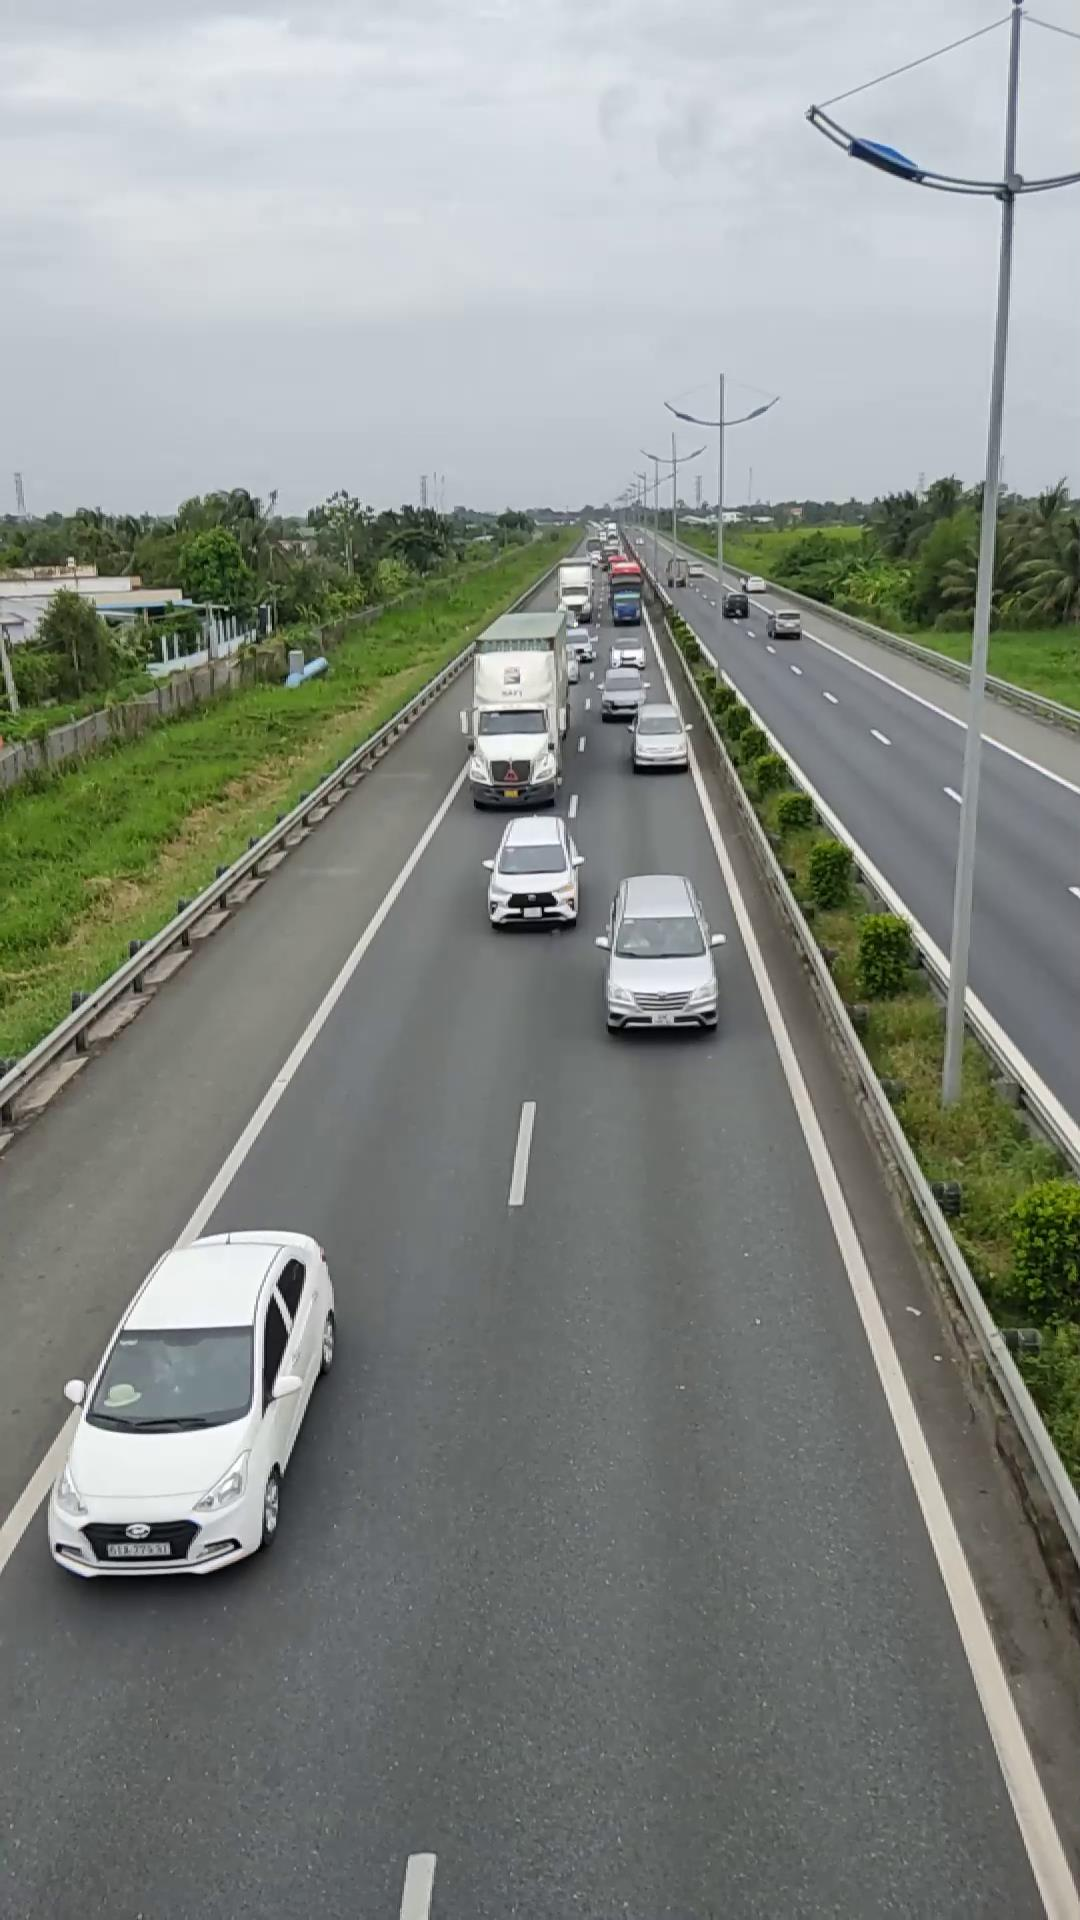car: (44, 1226, 339, 1578), (600, 872, 723, 1034), (483, 814, 585, 928)
container: (463, 607, 575, 808)
